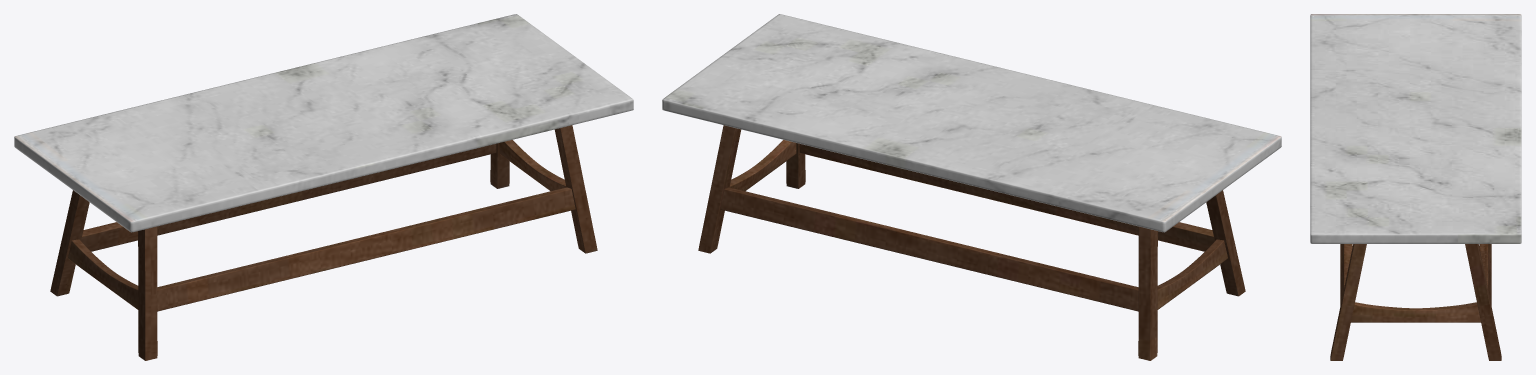
File: Table39.glb
3 views of the same model, side by side, from view 1: azimuth 30°, elevation 25°; view 2: azimuth 150°, elevation 25°; view 3: azimuth 270°, elevation 25° (orthographic). The views are drawn at different scales.
Visible parts, largest first — view 1: Table39_model; view 2: Table39_model; view 3: Table39_model.
Part boxes in pixels (x1=…): Table39_model: x1=14, y1=14, x2=633, y2=360; Table39_model: x1=662, y1=14, x2=1281, y2=360; Table39_model: x1=1310, y1=14, x2=1521, y2=360.
Bounding box in the file's own units: 2.82 × 0.8224 × 1.14.
Materials: 1 (1 with a texture image).
